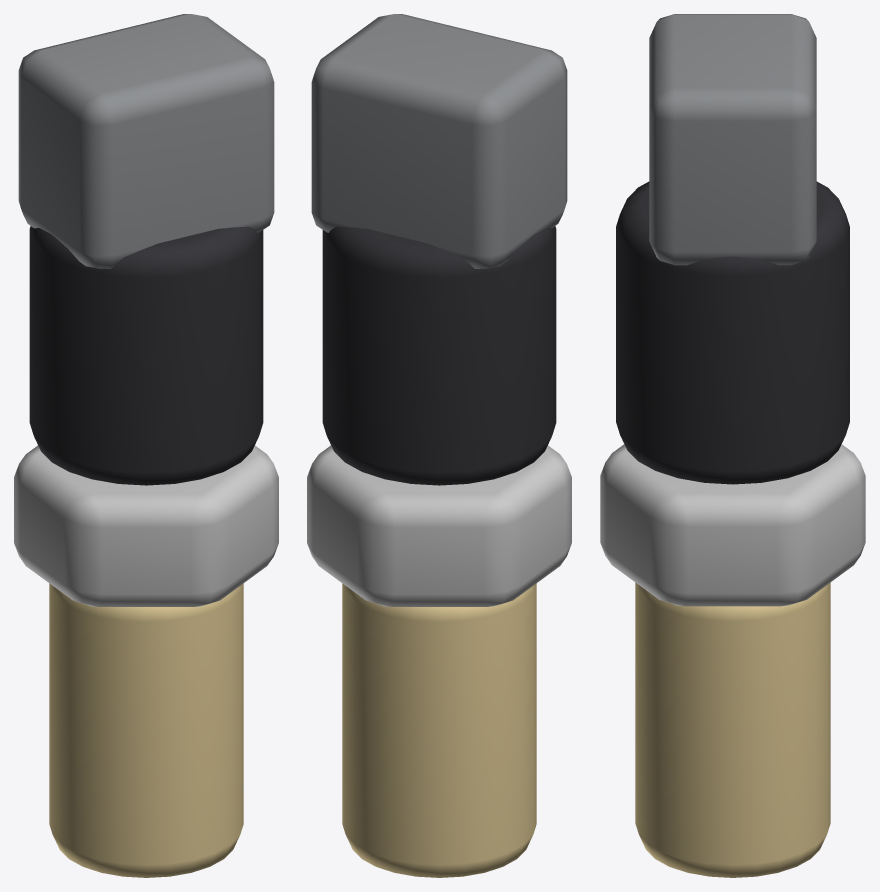
The model's file is O2Downstream.fbx.
3 renders of one model, left to right at view 1: azimuth 30°, elevation 25°; view 2: azimuth 150°, elevation 25°; view 3: azimuth 270°, elevation 25°, orthographic.
Visible parts, largest first — view 1: O2Downstream_LOD0; view 2: O2Downstream_LOD0; view 3: O2Downstream_LOD0.
Part boxes in pixels (bbox=[...]): O2Downstream_LOD0: bbox=[14, 14, 278, 877]; O2Downstream_LOD0: bbox=[307, 14, 571, 877]; O2Downstream_LOD0: bbox=[600, 14, 865, 877].
Size of what is drawn, in the model's own units: 0.0191 by 0.0693 by 0.021.
